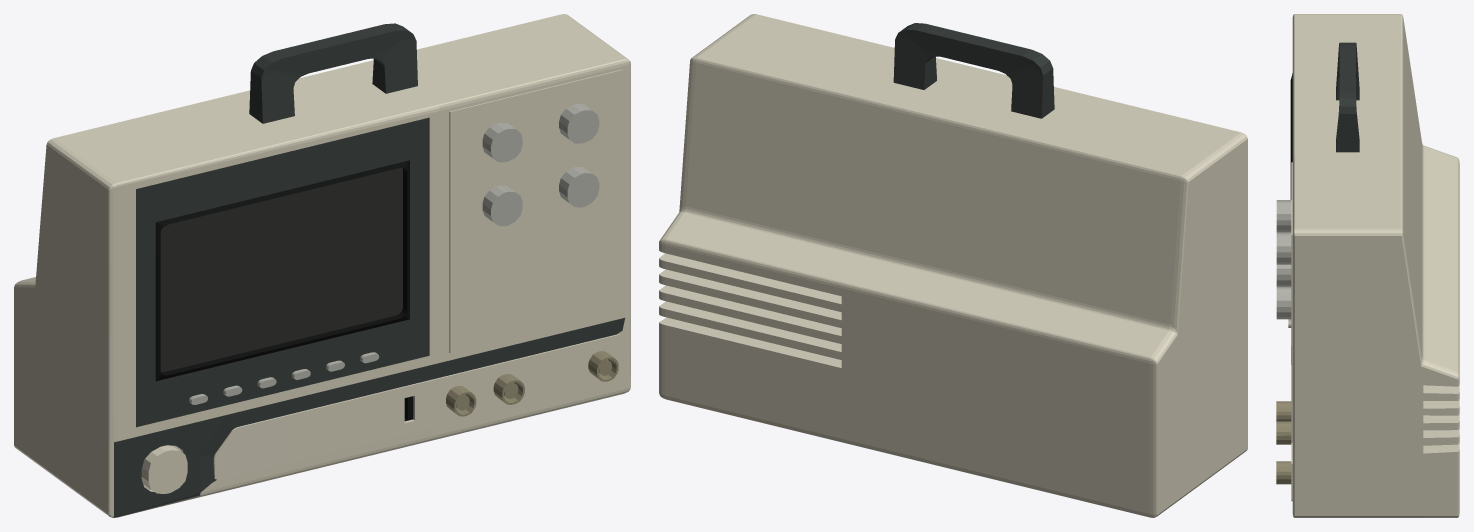
The model's file is osciloscopio.glb.
3 renders of one model, left to right at view 1: azimuth 30°, elevation 25°; view 2: azimuth 150°, elevation 25°; view 3: azimuth 270°, elevation 25°, orthographic. The views are drawn at different scales.
Parts seen in each view (by area): view 1: Cube; view 2: Cube; view 3: Cube.
Boxes of the visible parts, x1,y1,x2,y2 form: Cube: (14,14,630,517); Cube: (659,14,1247,517); Cube: (1276,14,1459,517).
Size of the model in its own units: 0.4914 by 0.3535 by 0.173.
